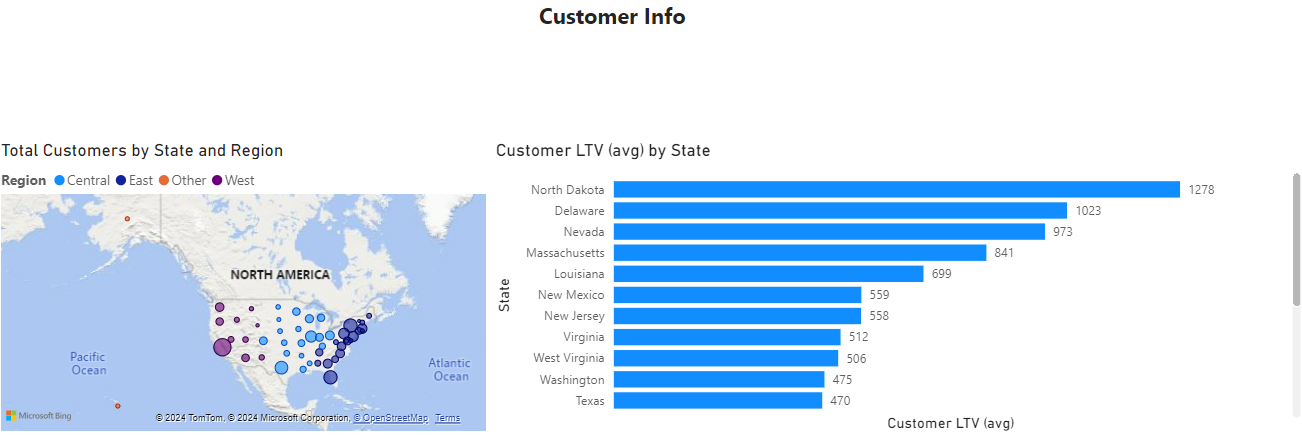

The dashboard page shown, as its layout file describes it:
{"tool":"powerbi","page":{"name":"Customer Info","canvas":[1280,720],"ordinal":1},"visuals":[{"type":"map","title":"Total Customers by State and Region","fields":{"Category":["States.State"],"Size":["New_Measures.Number of Customers"],"Series":["States.Region"]},"box":[9.9,0,365.4,289.3],"z":0},{"type":"clusteredBarChart","fields":{"Category":["States.State"],"Y":["New_Measures.Customer LTV (avg)"]},"box":[375.2,0,732.8,289.2],"z":1000}]}

Visuals, with their boxes on the page's 1280x720 design canvas (x1, y1, x2, y2). These are canvas units, not pixel positions in the 1302x435 screenshot, which may show the page scaled, cropped or inside an application window:
"Total Customers by State and Region" map: Rect(10, 0, 375, 289)
clusteredBarChart - States.State x New_Measures.Customer LTV (avg): Rect(375, 0, 1108, 289)
